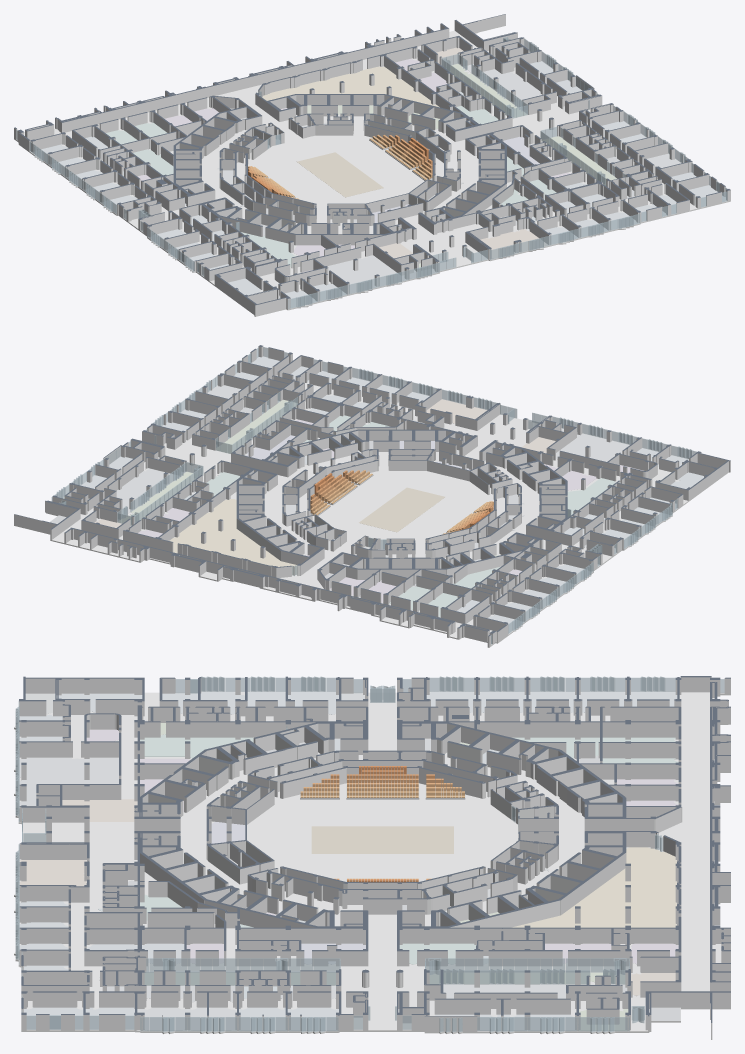
Rendered from MAC_Campus_FF01.glb.
The picture shows the model from 3 angles, top to bottom: view 1: azimuth 30°, elevation 25°; view 2: azimuth 150°, elevation 25°; view 3: azimuth 270°, elevation 25°; orthographic projection. The views are drawn at different scales.
Visible parts, largest first — view 1: Walls, Walls_Top, Floor_Slab, Glazing, Room_A114, Arena_Court, Room_M100, Room_A100, Space_COURTYARD-01, Space_COURTYARD-02, Room_A217, Room_M103 (+1 smaller); view 2: Walls, Walls_Top, Floor_Slab, Glazing, Room_A114, Arena_Court, Room_M100, Room_A100, Space_COURTYARD-02, Room_A115, Space_COURTYARD-01, Room_M103 (+1 smaller); view 3: Walls, Floor_Slab, Walls_Top, Glazing, Room_A114, Arena_Court, Room_M100, Room_A217, Room_M103, Room_A206, Space_THEATER-01, Room_A100 (+14 smaller).
Part boxes in pixels (box(x1,y1,x2,y2)): Walls: box(14, 14, 730, 315); Walls_Top: box(14, 14, 730, 305); Floor_Slab: box(14, 25, 730, 316); Glazing: box(16, 37, 727, 308); Room_A114: box(262, 66, 413, 100); Arena_Court: box(296, 152, 383, 197); Room_M100: box(327, 255, 435, 293); Room_A100: box(464, 64, 542, 106); Space_COURTYARD-01: box(449, 64, 526, 117); Space_COURTYARD-02: box(542, 136, 616, 185); Room_A217: box(480, 229, 547, 258); Room_M103: box(241, 232, 295, 267); Walls: box(14, 346, 730, 646); Walls_Top: box(14, 345, 730, 636); Floor_Slab: box(14, 356, 730, 647); Glazing: box(51, 347, 696, 644); Room_A114: box(169, 525, 297, 574); Arena_Court: box(359, 487, 444, 532); Room_M100: box(556, 428, 629, 461); Room_A100: box(116, 468, 184, 513); Space_COURTYARD-02: box(216, 400, 297, 453); Room_A115: box(194, 499, 249, 538); Space_COURTYARD-01: box(118, 472, 194, 525); Room_M103: box(567, 478, 615, 515); Walls: box(19, 676, 730, 1038); Floor_Slab: box(14, 691, 730, 1039); Walls_Top: box(19, 676, 730, 1022); Glazing: box(15, 676, 724, 1032); Room_A114: box(581, 847, 676, 927); Arena_Court: box(311, 826, 453, 853); Room_M100: box(19, 757, 118, 805); Room_A217: box(19, 860, 86, 886); Room_M103: box(140, 734, 253, 758); Room_A206: box(137, 1007, 206, 1030); Space_THEATER-01: box(62, 799, 137, 821); Room_A100: box(443, 984, 615, 998).
Bounding box in the file's own units: 137 × 3.41 × 120.
